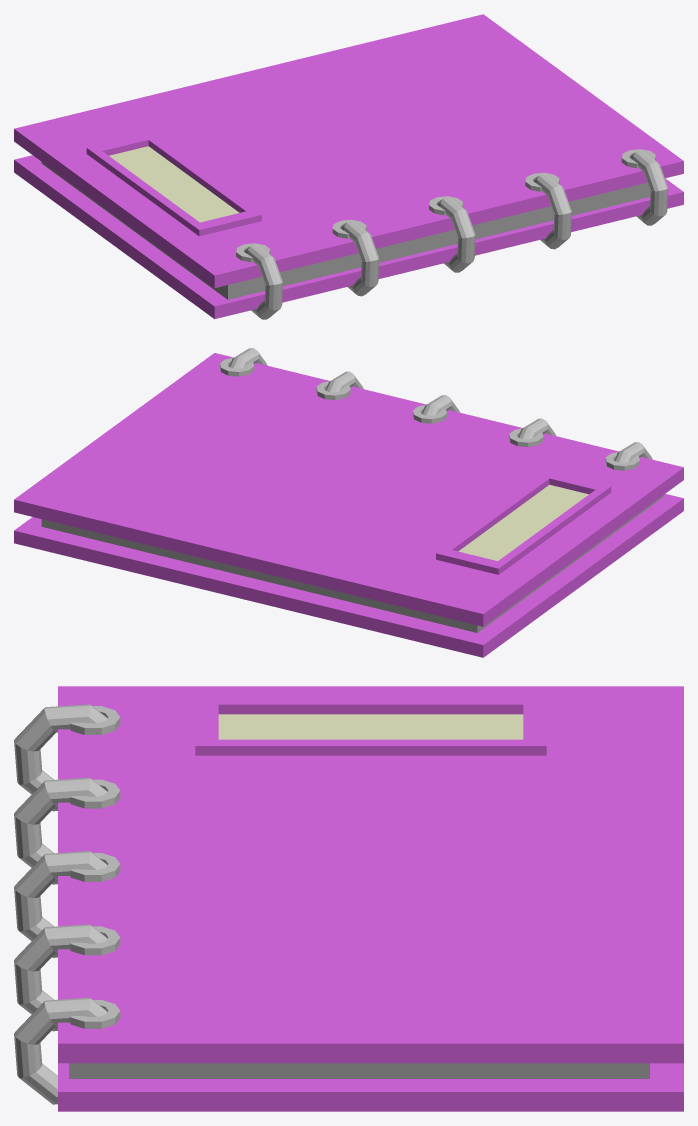
The model's file is notebook.fbx.
The picture shows the model from 3 angles, top to bottom: view 1: azimuth 30°, elevation 25°; view 2: azimuth 150°, elevation 25°; view 3: azimuth 270°, elevation 25°; orthographic projection. The views are drawn at different scales.
Parts seen in each view (by area): view 1: notebook; view 2: notebook; view 3: notebook.
Part boxes in pixels (<box>): notebook: <box>14,14,683,319</box>; notebook: <box>14,348,683,657</box>; notebook: <box>14,686,683,1111</box>.
Size of the model in its own units: 26.25 by 3.57 by 20.8.
